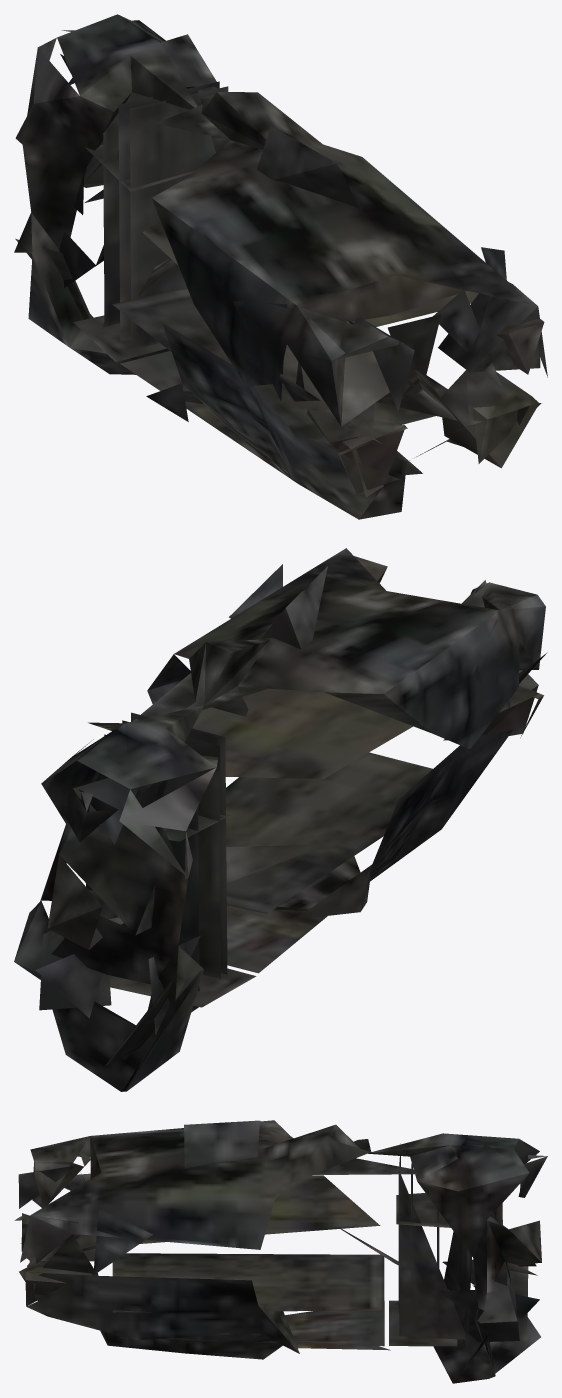
The model's file is wreck-lod1.glb.
The picture shows the model from 3 angles, top to bottom: view 1: azimuth 30°, elevation 25°; view 2: azimuth 150°, elevation 25°; view 3: azimuth 270°, elevation 25°; orthographic projection. The views are drawn at different scales.
Parts seen in each view (by area): view 1: wreck-lod1; view 2: wreck-lod1; view 3: wreck-lod1.
Part boxes in pixels (<box>): wreck-lod1: <box>14,14,547,519</box>; wreck-lod1: <box>14,548,547,1091</box>; wreck-lod1: <box>14,1120,547,1383</box>.
Size of the model in its own units: 17.52 by 24.38 by 45.81.
1 material, 1 textured.
